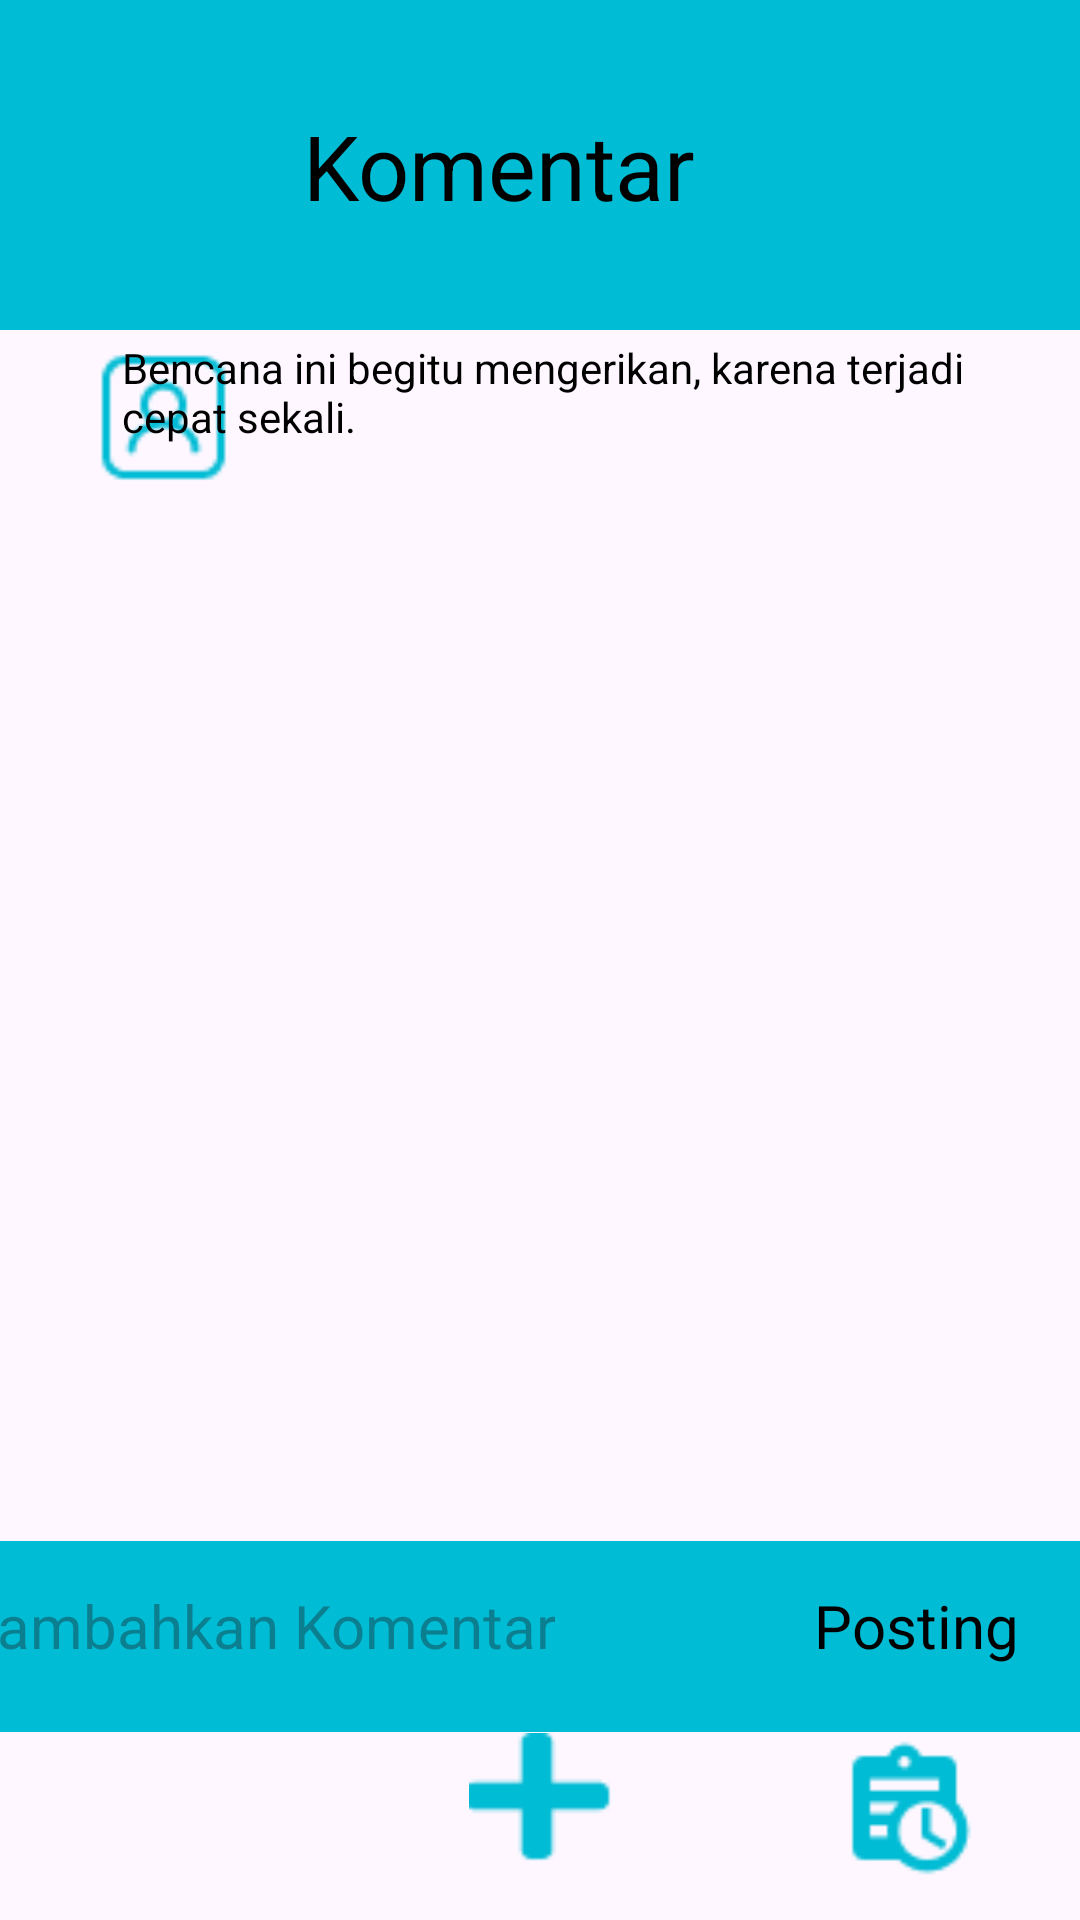

Icon click points for this 1080 × 1920 phone screenshot, format (x,y):
history: (911,1808)
